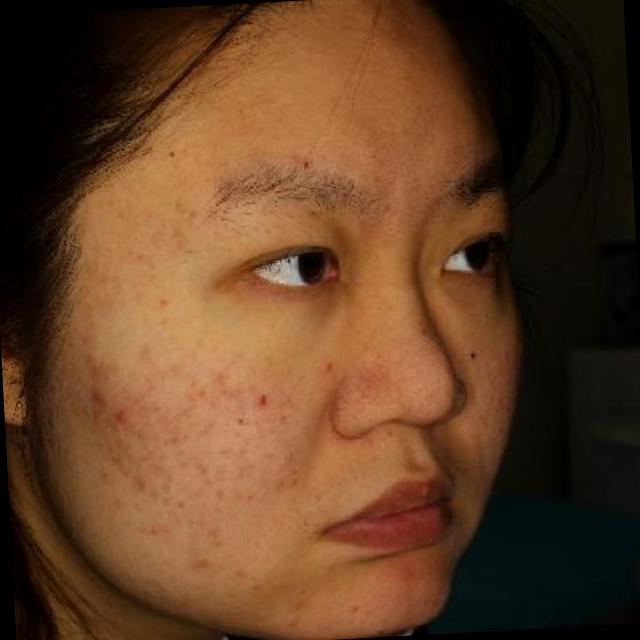blackhead: (246, 383, 279, 418), (460, 336, 488, 372), (291, 148, 323, 176), (228, 409, 255, 441), (158, 142, 184, 165)
